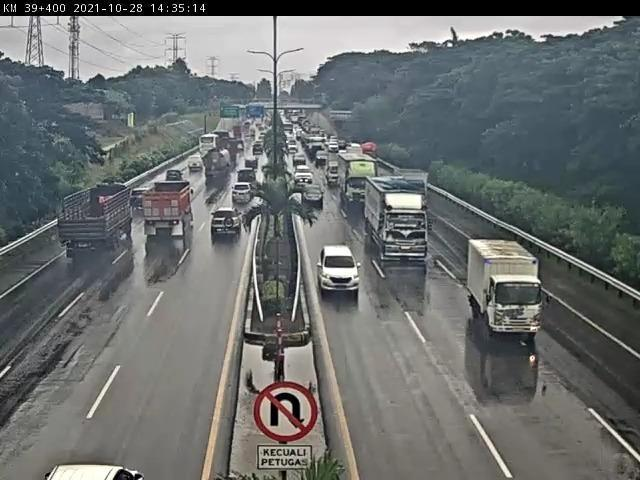car: (52, 451, 158, 480), (320, 239, 359, 287), (211, 208, 235, 242), (306, 183, 329, 212), (129, 183, 146, 215), (232, 187, 250, 216), (159, 168, 179, 194), (293, 168, 314, 186), (184, 155, 199, 180), (244, 162, 259, 181), (236, 174, 254, 189), (253, 144, 265, 158), (316, 150, 327, 164), (293, 153, 307, 162), (329, 161, 335, 182)
truck: (469, 239, 553, 337), (62, 165, 126, 263), (357, 181, 429, 258), (147, 177, 192, 250), (343, 156, 383, 202), (203, 148, 232, 184)
